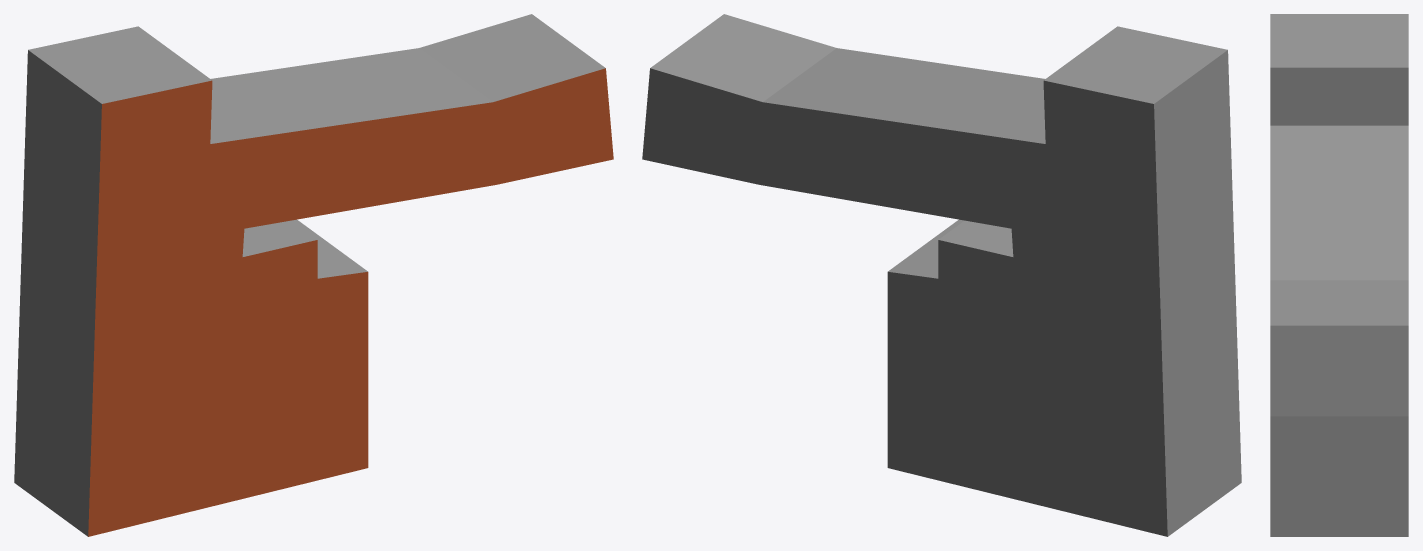
The model's file is construction_6330_assumed_A_Casa_h6m.obj.
The picture shows the model from 3 angles, left to right: view 1: azimuth 30°, elevation 25°; view 2: azimuth 150°, elevation 25°; view 3: azimuth 270°, elevation 25°; orthographic projection. The views are drawn at different scales.
Parts seen in each view (by area): view 1: construction_6330_assumed_A_Casa; view 2: construction_6330_assumed_A_Casa; view 3: construction_6330_assumed_A_Casa.
Part boxes in pixels (<box>): construction_6330_assumed_A_Casa: <box>14,14,613,536</box>; construction_6330_assumed_A_Casa: <box>642,14,1241,536</box>; construction_6330_assumed_A_Casa: <box>1270,14,1408,536</box>.
Bounding box in the file's own units: 24.59 × 19.21 × 6.
